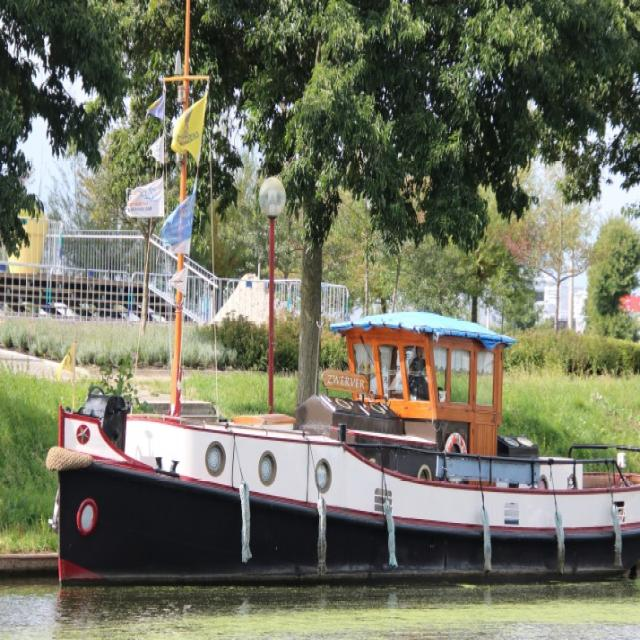tugboat: (43, 307, 640, 608)
